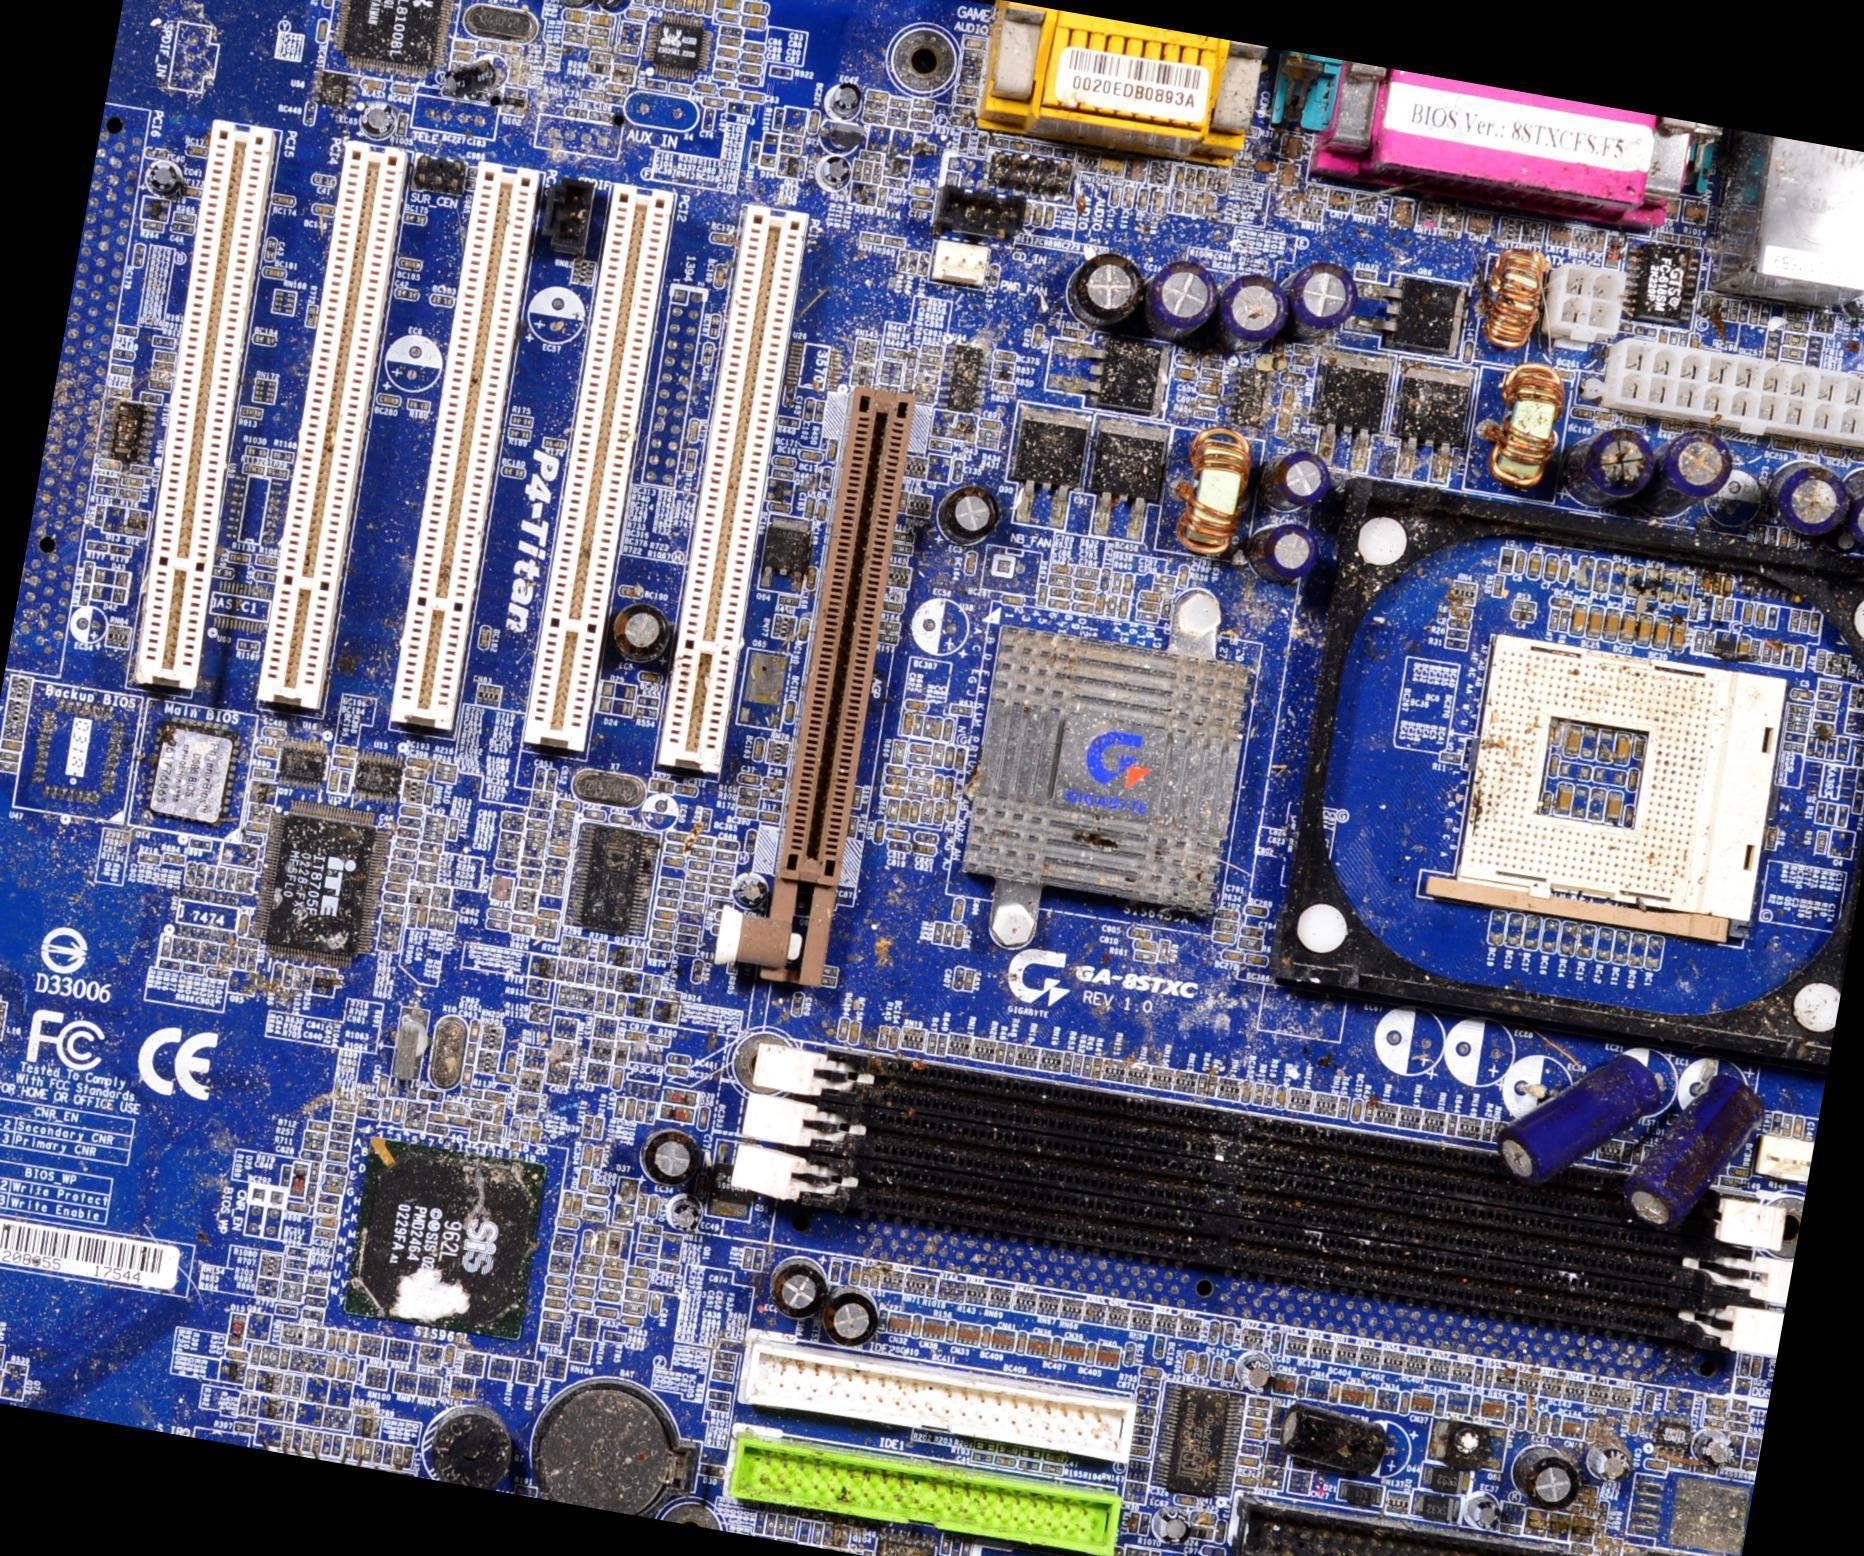Capacitor: (390, 1098, 407, 1125), (741, 13, 768, 30), (950, 897, 966, 923), (647, 1292, 662, 1318), (345, 1334, 360, 1361), (742, 39, 765, 55), (871, 818, 886, 845), (884, 826, 909, 842), (912, 844, 936, 859), (1131, 939, 1157, 953), (581, 1145, 596, 1171), (743, 0, 768, 15), (736, 772, 761, 787), (912, 830, 938, 844), (950, 965, 965, 991), (559, 1189, 573, 1216), (623, 1277, 649, 1291), (989, 1454, 1016, 1468), (225, 1350, 247, 1365), (578, 1165, 591, 1189), (1073, 577, 1098, 592), (1049, 586, 1072, 601), (952, 923, 964, 949), (1127, 926, 1150, 940), (623, 1097, 635, 1122), (540, 1299, 565, 1312), (761, 776, 783, 789), (571, 1286, 593, 1300), (741, 53, 764, 67), (351, 1439, 364, 1461), (648, 1195, 659, 1221), (375, 1075, 388, 1095), (624, 1031, 645, 1044), (449, 1116, 470, 1129), (625, 1266, 647, 1279), (570, 1298, 592, 1310), (1050, 563, 1072, 576), (1071, 590, 1093, 603), (1047, 596, 1069, 608), (336, 1360, 347, 1382), (558, 1215, 578, 1228), (580, 1254, 600, 1266), (889, 840, 910, 852), (620, 1317, 641, 1328), (1072, 601, 1093, 612), (1044, 1454, 1064, 1465), (740, 64, 760, 75), (601, 1269, 624, 1279), (589, 1195, 605, 1208), (598, 1307, 616, 1317), (328, 1330, 337, 1351), (325, 1357, 335, 1377), (429, 1113, 444, 1124), (776, 1537, 798, 1544)
Connector: (378, 161, 565, 745), (637, 196, 819, 778), (242, 141, 423, 715), (114, 119, 296, 689), (512, 181, 686, 758), (1302, 57, 1697, 244), (963, 0, 1271, 200), (1596, 346, 1863, 457)
IC: (340, 1137, 553, 1340), (247, 794, 398, 973), (124, 709, 252, 835), (564, 823, 665, 946), (1144, 1379, 1245, 1500), (330, 0, 459, 83), (93, 398, 165, 472), (641, 10, 717, 81), (274, 731, 328, 793), (353, 752, 405, 809), (306, 70, 360, 110), (873, 1524, 939, 1555)
Resistor: (139, 216, 177, 235), (1074, 564, 1098, 582), (811, 1521, 826, 1546), (524, 984, 548, 1000), (773, 1515, 788, 1540), (937, 1533, 954, 1555), (1131, 950, 1158, 965), (972, 1441, 998, 1455), (1039, 1464, 1065, 1479), (643, 1101, 657, 1126), (302, 1139, 326, 1154), (310, 1430, 324, 1455), (0, 748, 21, 763), (1334, 1096, 1350, 1118), (877, 1024, 889, 1049), (525, 976, 551, 988), (735, 796, 759, 809), (929, 921, 943, 945), (594, 941, 608, 964), (1070, 1054, 1083, 1077), (612, 1096, 626, 1119), (390, 1444, 404, 1467), (769, 65, 792, 79), (174, 210, 197, 224), (1047, 573, 1070, 587), (635, 705, 657, 719), (1205, 1074, 1218, 1096), (303, 1129, 325, 1142), (941, 924, 954, 947), (1195, 1071, 1207, 1094), (1251, 1082, 1264, 1106), (1080, 1055, 1093, 1078), (971, 1452, 994, 1465), (1090, 1057, 1104, 1077), (959, 1535, 973, 1555), (994, 1040, 1007, 1062), (925, 1031, 936, 1053), (648, 1034, 671, 1047), (307, 1119, 328, 1132), (361, 1440, 373, 1462), (343, 1435, 354, 1460), (300, 1430, 313, 1453), (765, 1514, 777, 1536), (602, 1277, 621, 1292), (634, 1100, 646, 1123), (996, 1444, 1019, 1456), (281, 1428, 292, 1451), (574, 1278, 594, 1289), (541, 1311, 561, 1323), (0, 760, 17, 774), (636, 696, 658, 708), (737, 786, 758, 798), (1063, 1050, 1074, 1071), (1004, 1044, 1015, 1065), (545, 1288, 566, 1299), (622, 1303, 644, 1315), (1019, 1448, 1041, 1459), (786, 1516, 798, 1538), (735, 808, 755, 819), (322, 1184, 342, 1196), (315, 1217, 335, 1228), (627, 1291, 647, 1302), (936, 1033, 946, 1056), (1263, 1084, 1273, 1104), (278, 1348, 287, 1371)
